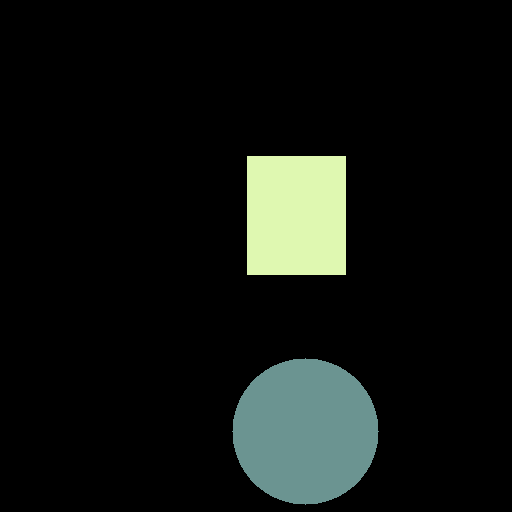circle: (232, 358, 378, 504)
rectangle: (247, 156, 345, 274)
